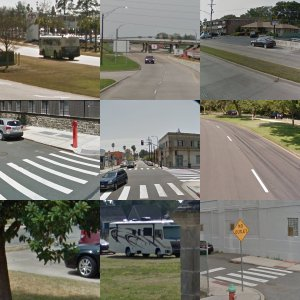汽車: (104, 217, 192, 261), (66, 243, 100, 278), (36, 35, 81, 61), (1, 114, 29, 143), (100, 166, 127, 192), (247, 35, 276, 51), (143, 54, 160, 65)
行人穿越道: (3, 157, 86, 197), (222, 263, 273, 286), (123, 182, 183, 200)
